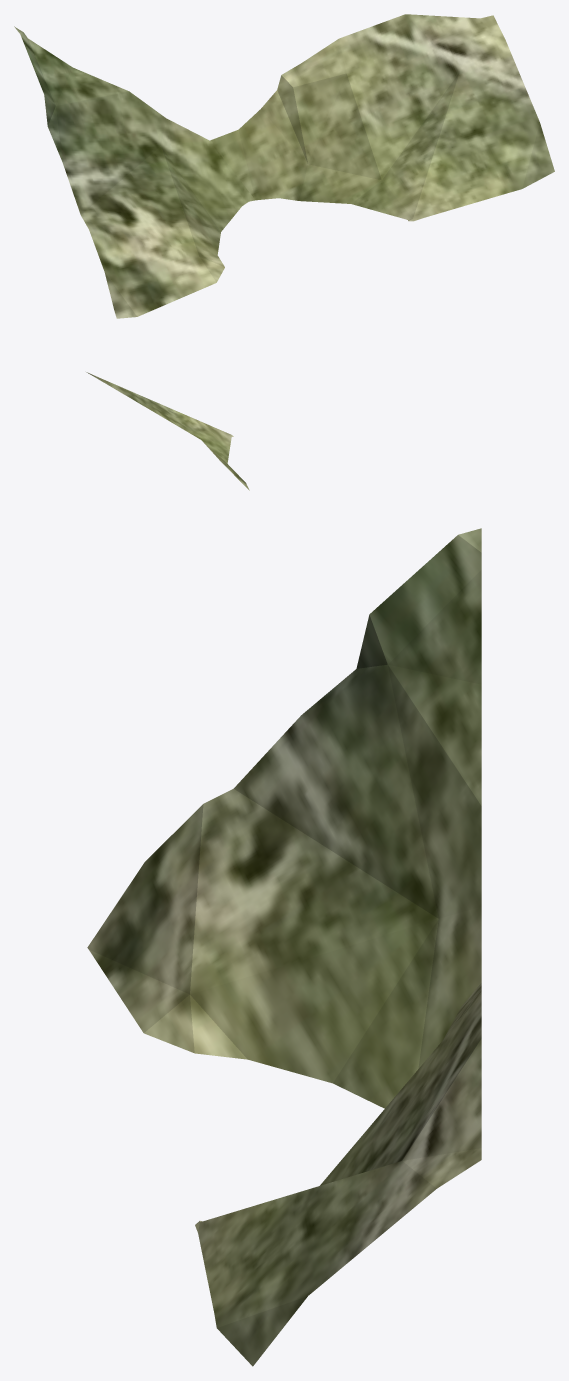
3 renders of one model, top to bottom at view 1: azimuth 30°, elevation 25°; view 2: azimuth 150°, elevation 25°; view 3: azimuth 270°, elevation 25°, orthographic. The views are drawn at different scales.
Bounding box in the file's own units: 2.95 × 1.28 × 1.13.
1 material, 1 textured.
